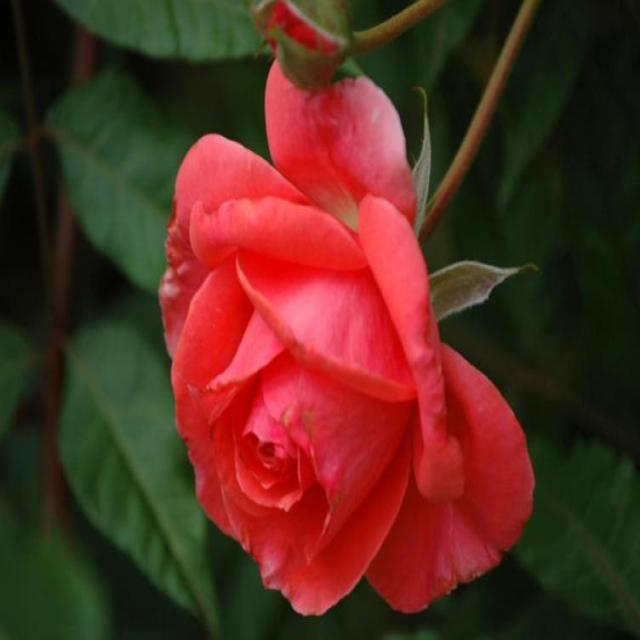rose: (152, 69, 513, 618)
